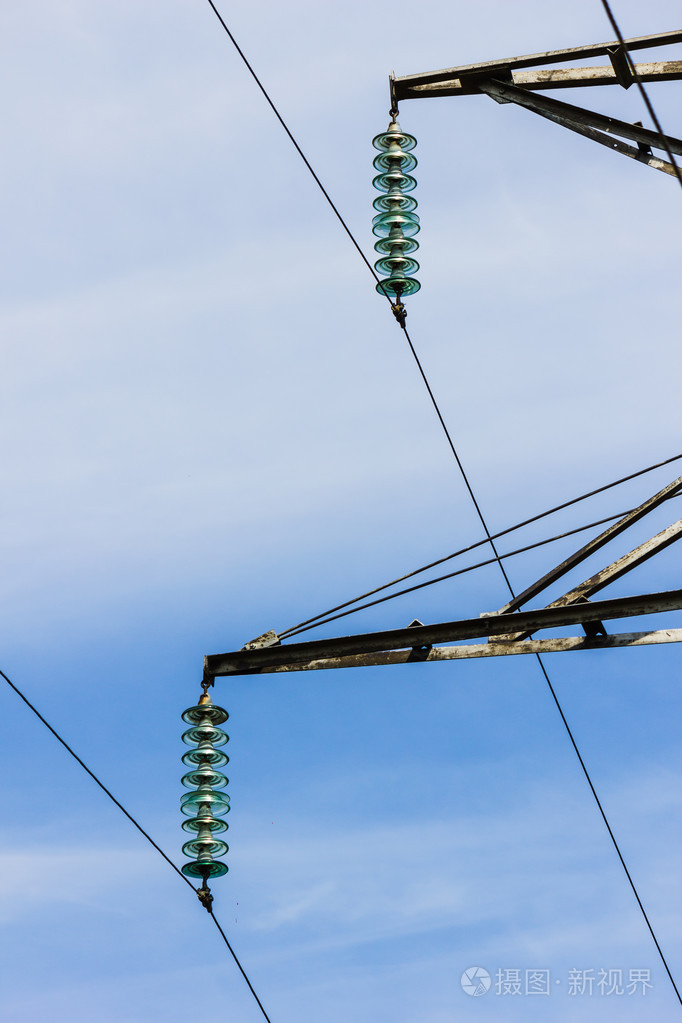insulator: (367, 123, 423, 301), (176, 699, 229, 881)
